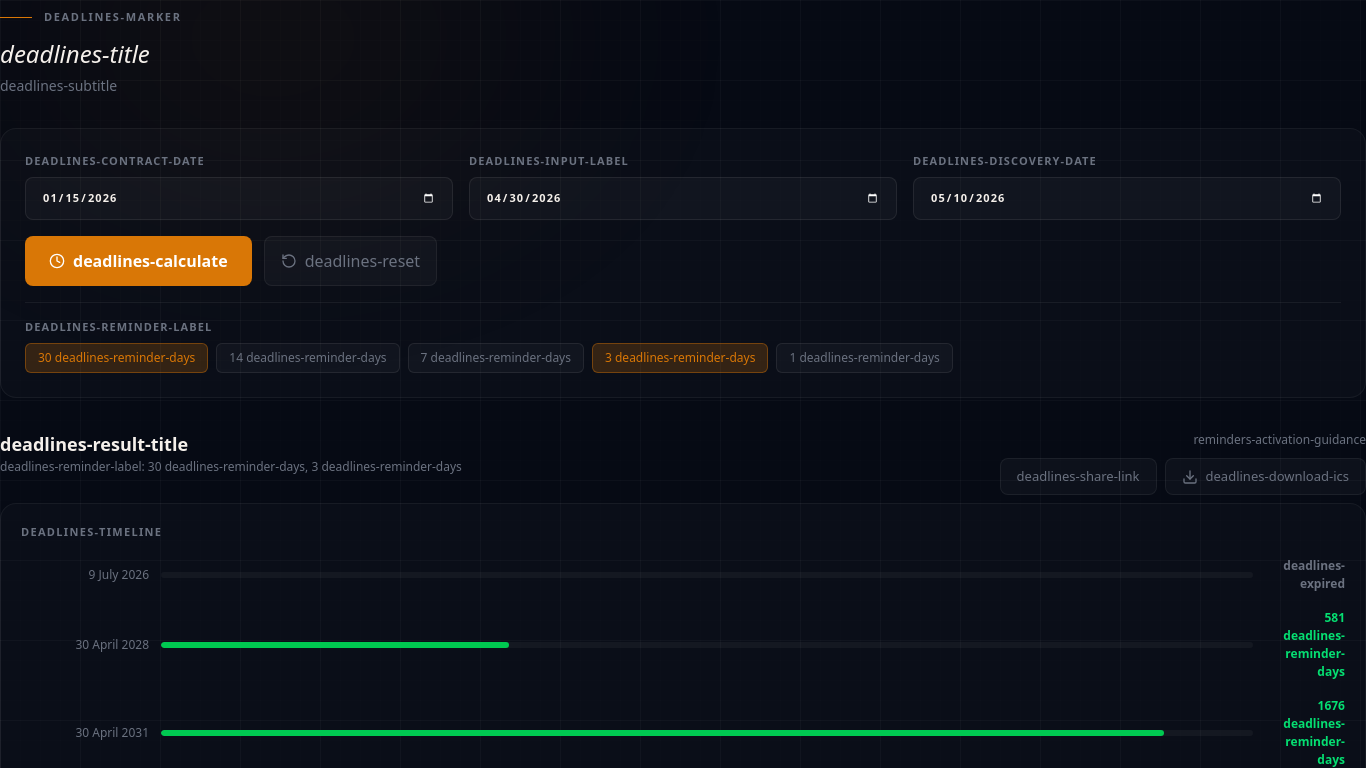
deadlines share-link restoration › removes hydrated acceptance query state when the acceptance input changes
Check: the heading "deadlines-result-title" is shown, box [0, 432, 188, 456]
Step 1. Type "2026-05-01" into the date field labelled "deadlines-input-label" → (683, 199), box [469, 177, 897, 220]
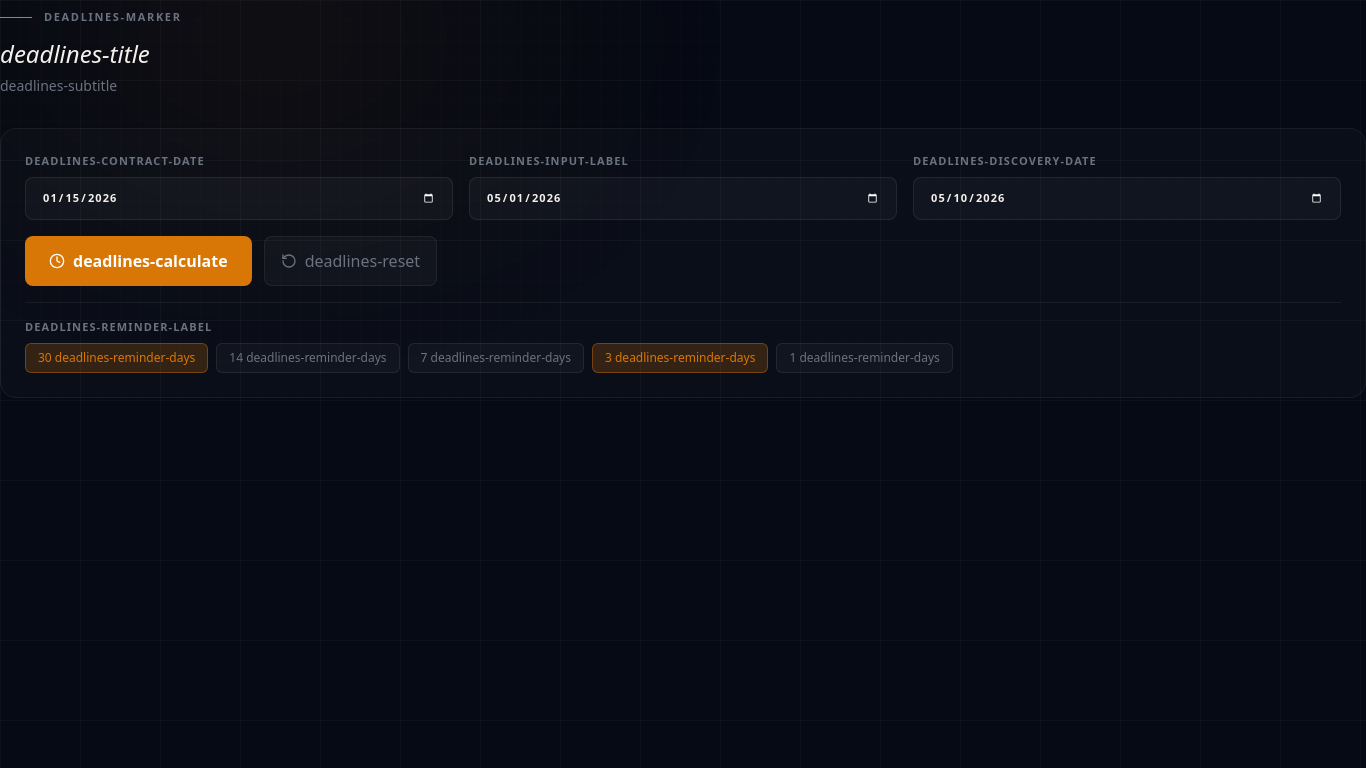
Check: the heading "deadlines-result-title" is gone
